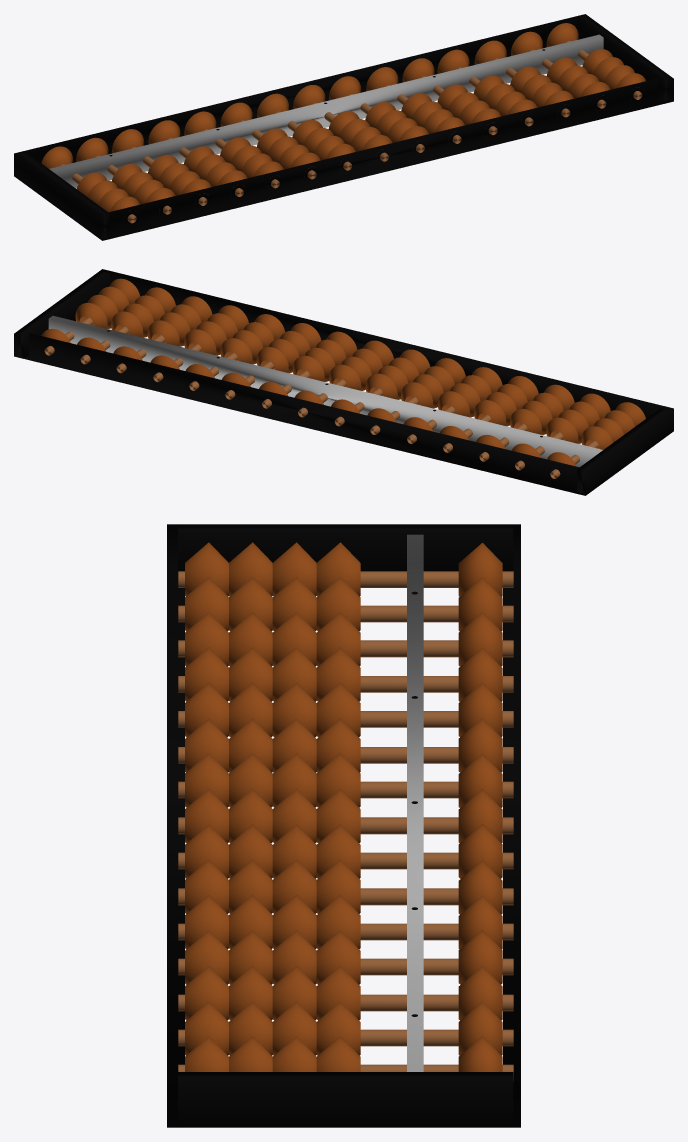
Rendered from soroban.glb.
3 renders of one model, top to bottom at view 1: azimuth 30°, elevation 25°; view 2: azimuth 150°, elevation 25°; view 3: azimuth 270°, elevation 25°, orthographic. The views are drawn at different scales.
Parts seen in each view (by area): view 1: 立方体.005, 円.024, 円.021, 円.017, 円.022, 円.016, 円.026, 円.028, 円.019, 円.027, 円.018, 円.020 (+19 smaller); view 2: 立方体.005, 円.017, 円.024, 円.016, 円.021, 円.022, 円.026, 円.028, 円.018, 円.019, 円.020, 円.027 (+4 smaller); view 3: 立方体.005, 円.026, 円.022, 円.017, 円.023, 円.018, 円.019, 円.029, 円.020, 円.027, 円.021, 円.028 (+19 smaller).
Part boxes in pixels (x1,y1,x2,y2): 立方体.005: (14, 14, 673, 240); 円.024: (257, 128, 320, 169); 円.021: (365, 102, 428, 149); 円.017: (510, 66, 573, 115); 円.022: (328, 111, 392, 151); 円.016: (546, 57, 610, 98); 円.026: (220, 137, 283, 178); 円.028: (148, 155, 211, 203); 円.019: (437, 84, 500, 128); 円.027: (184, 146, 247, 187); 円.018: (473, 75, 537, 116); 円.020: (401, 93, 464, 139); 立方体.005: (14, 269, 673, 495); 円.017: (147, 296, 212, 346); 円.024: (401, 358, 465, 408); 円.016: (111, 287, 175, 337); 円.021: (292, 331, 357, 381); 円.022: (329, 340, 393, 390); 円.026: (437, 367, 502, 417); 円.028: (510, 384, 574, 434); 円.018: (184, 305, 248, 355); 円.019: (220, 314, 284, 364); 円.020: (256, 323, 321, 373); 円.027: (474, 376, 538, 426); 立方体.005: (167, 524, 520, 1127); 円.026: (185, 682, 360, 737); 円.022: (185, 788, 360, 843); 円.017: (185, 965, 360, 1020); 円.023: (185, 753, 360, 807); 円.018: (185, 930, 360, 984); 円.019: (185, 894, 360, 949); 円.029: (185, 576, 360, 631); 円.020: (185, 859, 360, 913); 円.027: (185, 647, 360, 701); 円.021: (185, 824, 360, 878); 円.028: (185, 612, 360, 666).
Size of the model in its own units: 4.14 by 0.2334 by 1.11.
